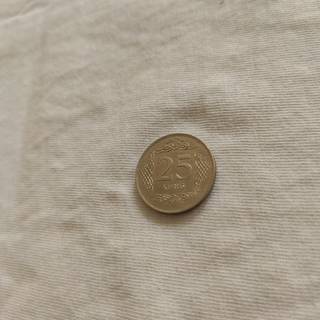25KURUS: (135, 132, 216, 216)
